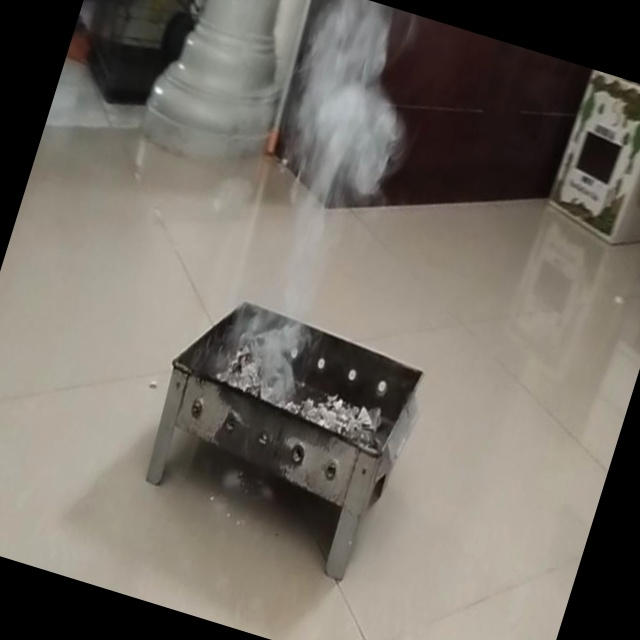smoke: (206, 0, 445, 400)
